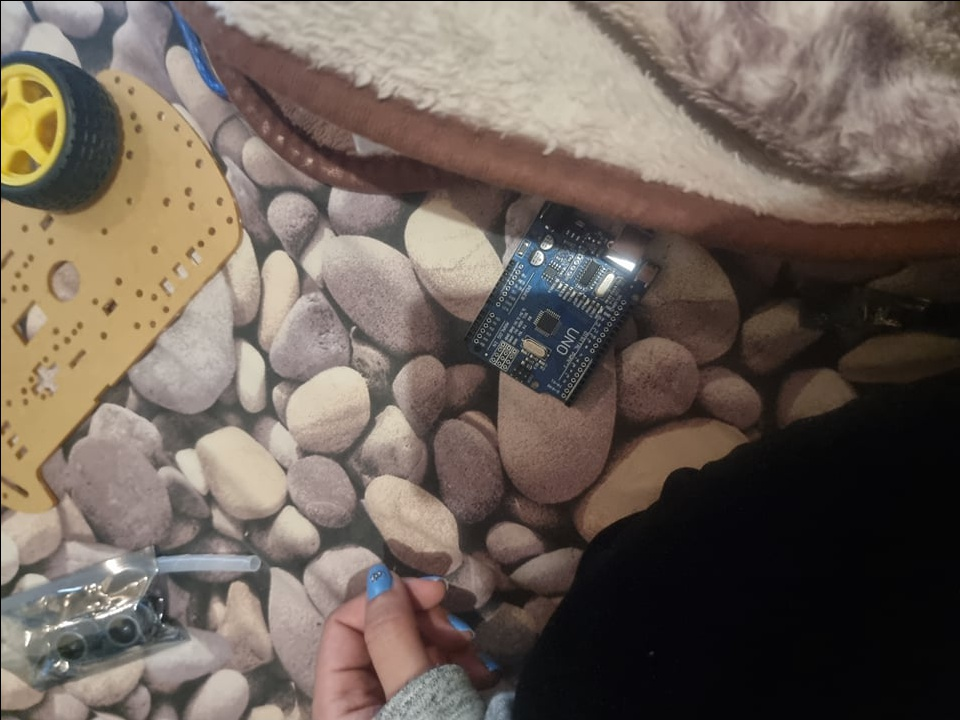SENSOR: (38, 601, 156, 666)
UNO R3: (464, 201, 659, 404)
